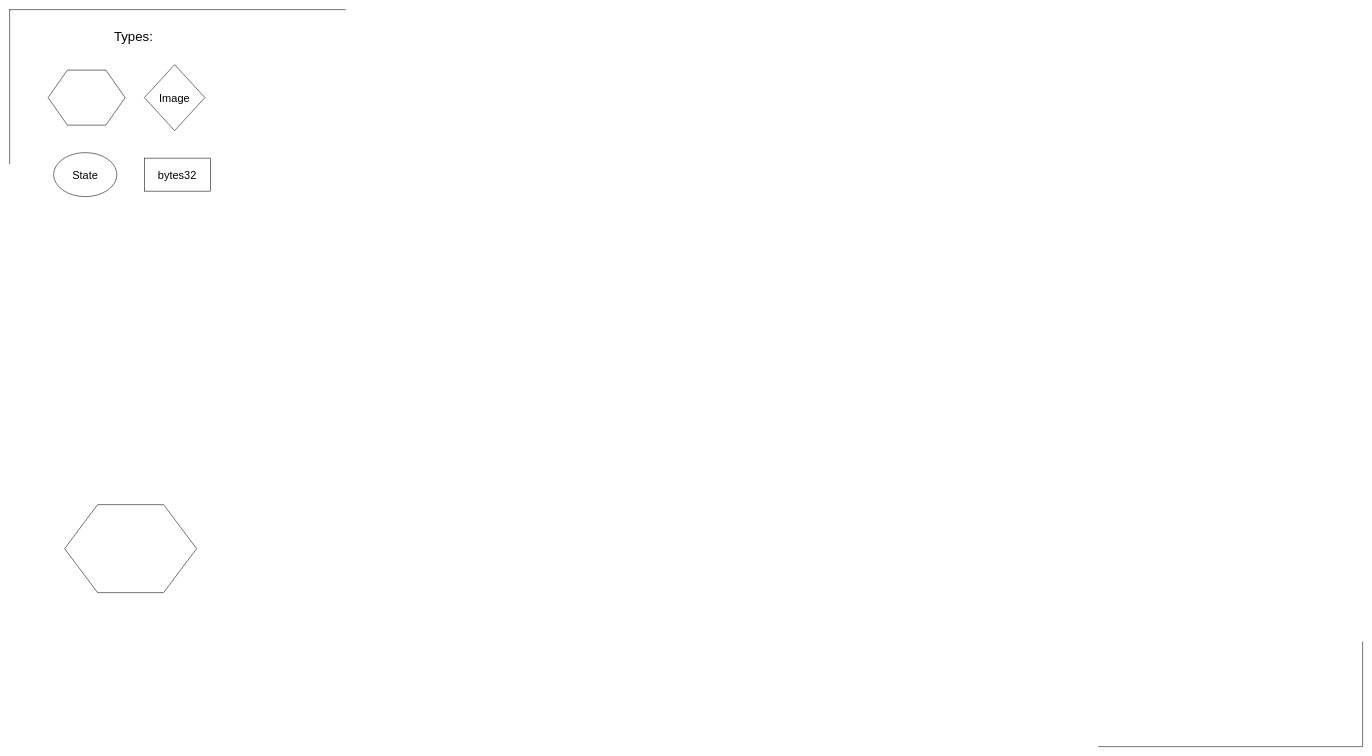
Image size: 1372x756. Some labels were removed from this diagram. Each missing label, with the centre of its shape:
"nums = [2, 3, 1, 2, 6, 7]" goes at [130,548].
"Seed" goes at [86,97].
